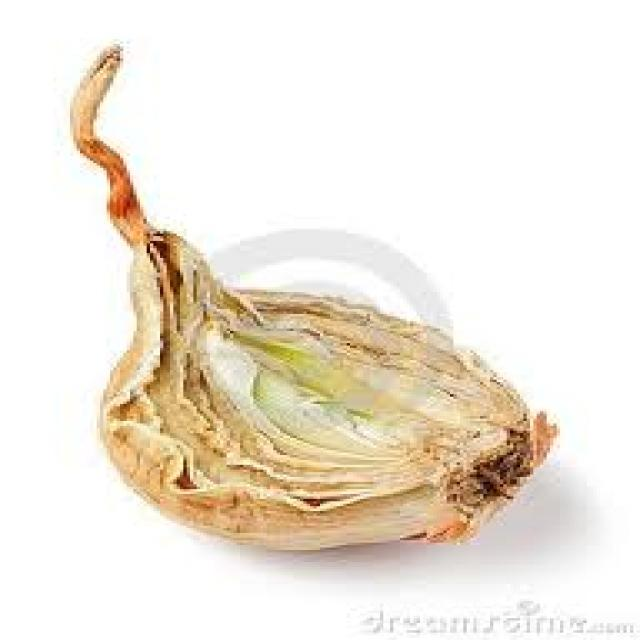organic waste: (67, 41, 553, 550)
